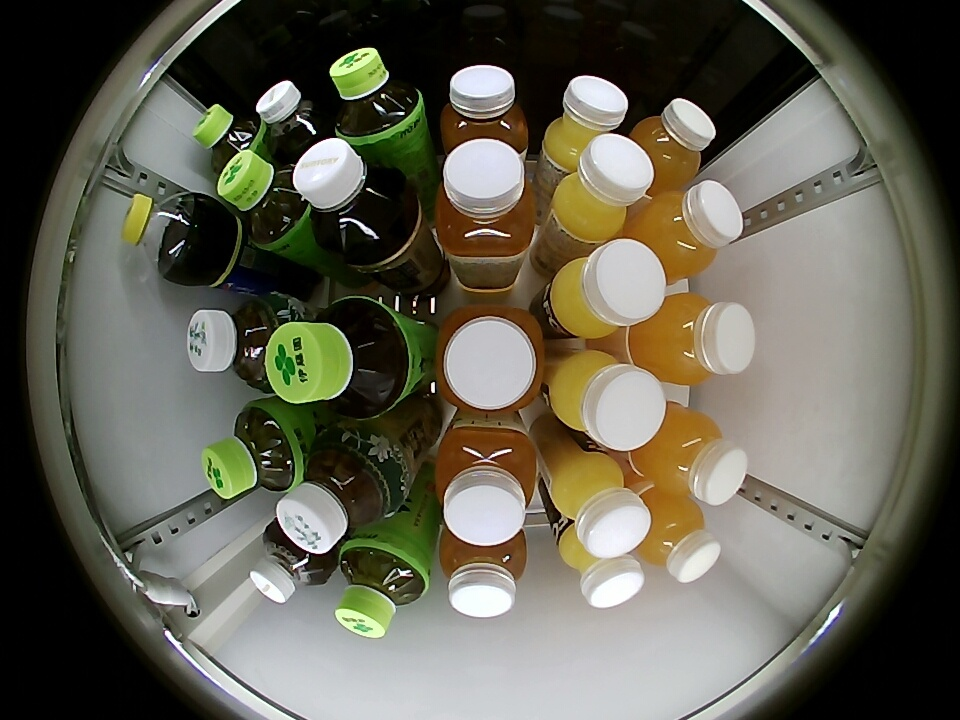baishikele: (120, 192, 204, 277)
chapai: (434, 422, 541, 545), (436, 139, 535, 267), (434, 305, 544, 413), (440, 65, 529, 159), (438, 526, 528, 617)
moliqingcha: (277, 428, 407, 554), (187, 290, 303, 391)
nfc: (551, 239, 667, 339), (548, 134, 654, 242), (553, 351, 667, 451), (547, 452, 652, 558), (541, 75, 629, 172), (556, 527, 645, 608)
weic: (629, 405, 748, 505), (625, 181, 743, 281), (627, 294, 756, 385), (632, 491, 720, 583), (626, 99, 716, 188)
wulongcha: (293, 139, 409, 259), (250, 523, 332, 604), (257, 80, 329, 160)
yitengyuan: (266, 297, 414, 420), (202, 400, 304, 500), (330, 47, 426, 150), (335, 537, 430, 640), (218, 149, 312, 250), (193, 103, 265, 175)
